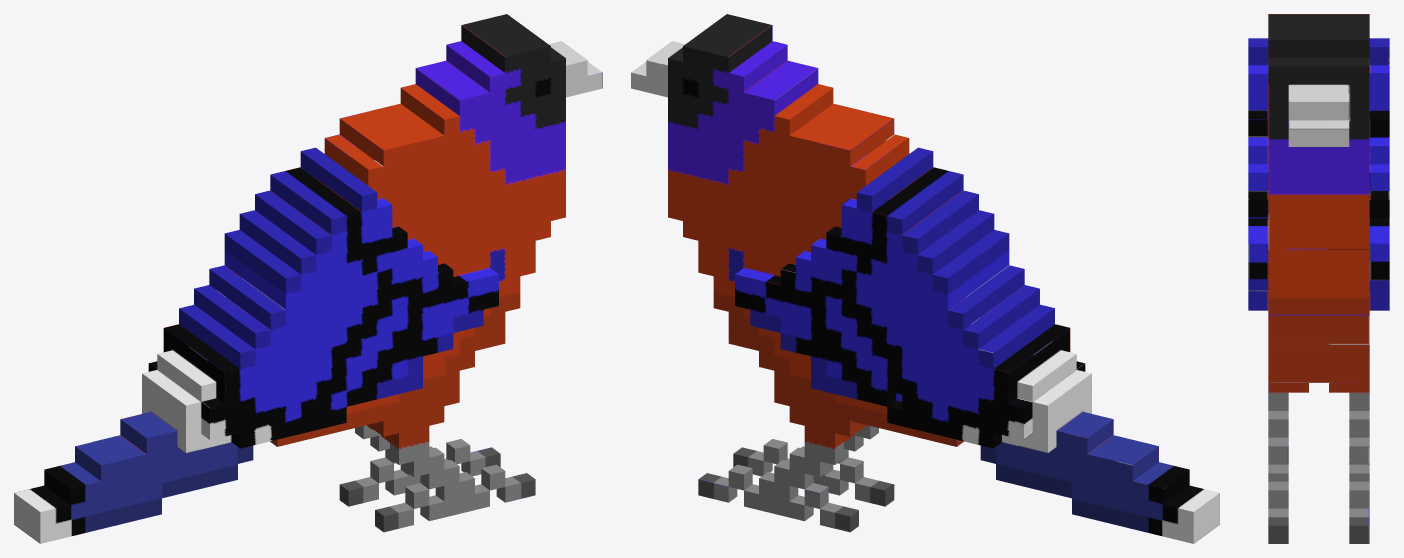
The model's file is rurikakesu.glb.
The picture shows the model from 3 angles, left to right: view 1: azimuth 30°, elevation 25°; view 2: azimuth 150°, elevation 25°; view 3: azimuth 270°, elevation 25°; orthographic projection. The views are drawn at different scales.
Visible parts, largest first — view 1: rurikakesu; view 2: rurikakesu; view 3: rurikakesu.
Part boxes in pixels (x1,y1,x2,y2): rurikakesu: (14,14,602,543); rurikakesu: (631,14,1219,543); rurikakesu: (1248,14,1389,543).
Size of the model in its own units: 0.74 by 0.56 by 0.14.
Materials: 1 (1 with a texture image).
